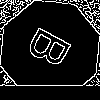B: (25, 25, 81, 76)
